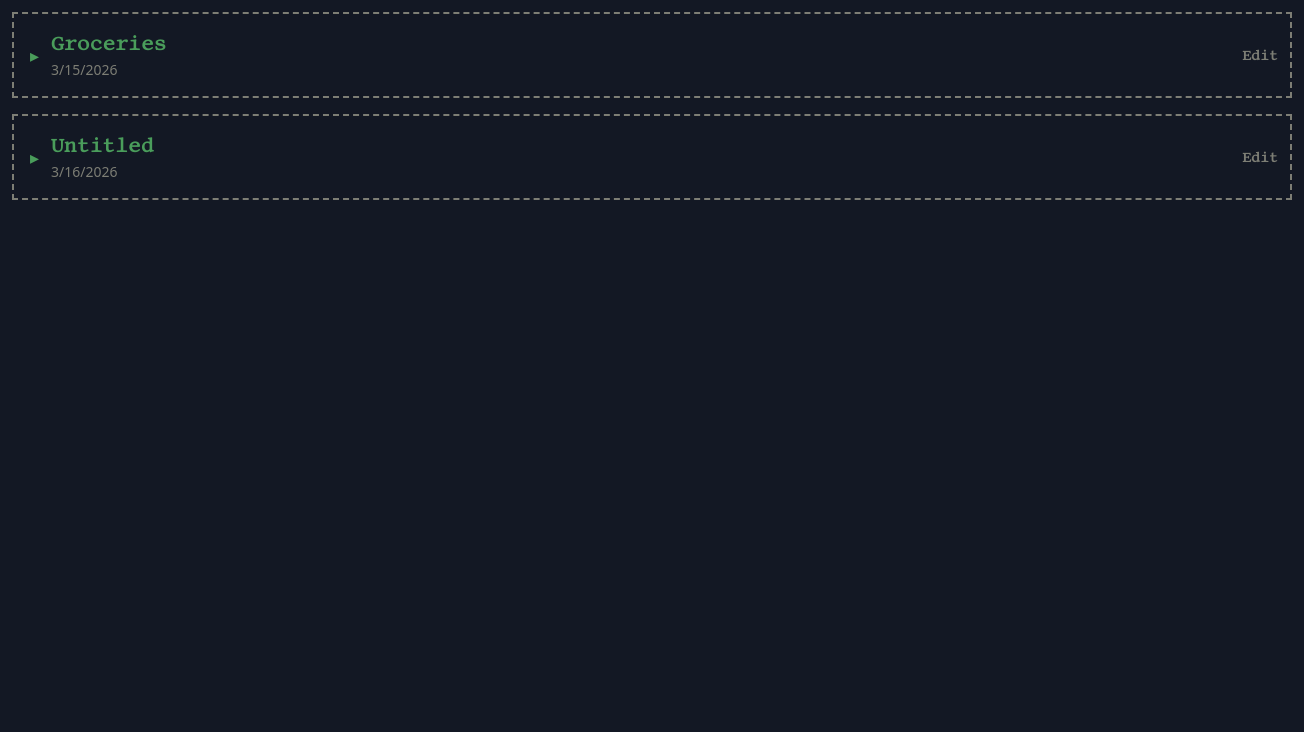
Test: NoteList › edit drafts › surfaces the kept draft after leaving an edit without cancelling
The width and height of the screenshot is (1304, 732).
Click the button with aria-label "Edit Groceries" at (1260, 55), box [1230,45,1290,65]
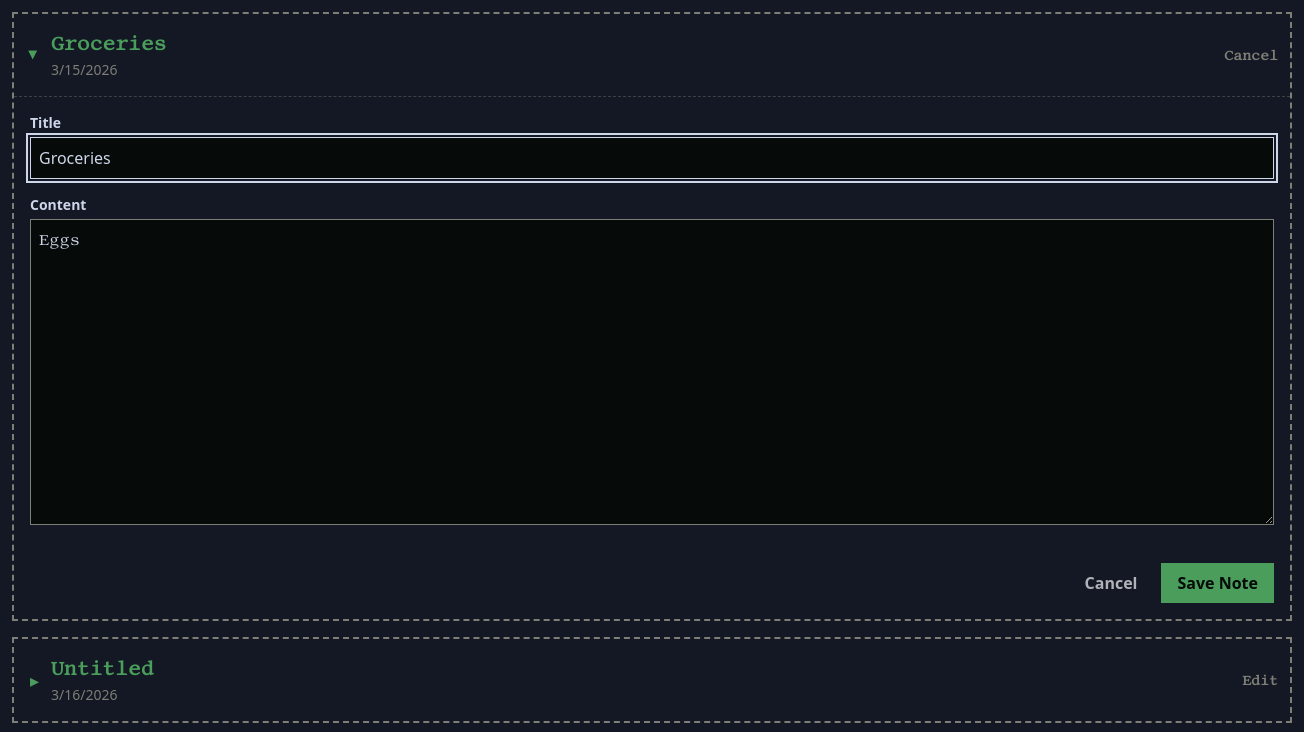
Replace the text in the field showing "Groceries" with "Groceries in progress" at (652, 158), box [30,137,1274,179]
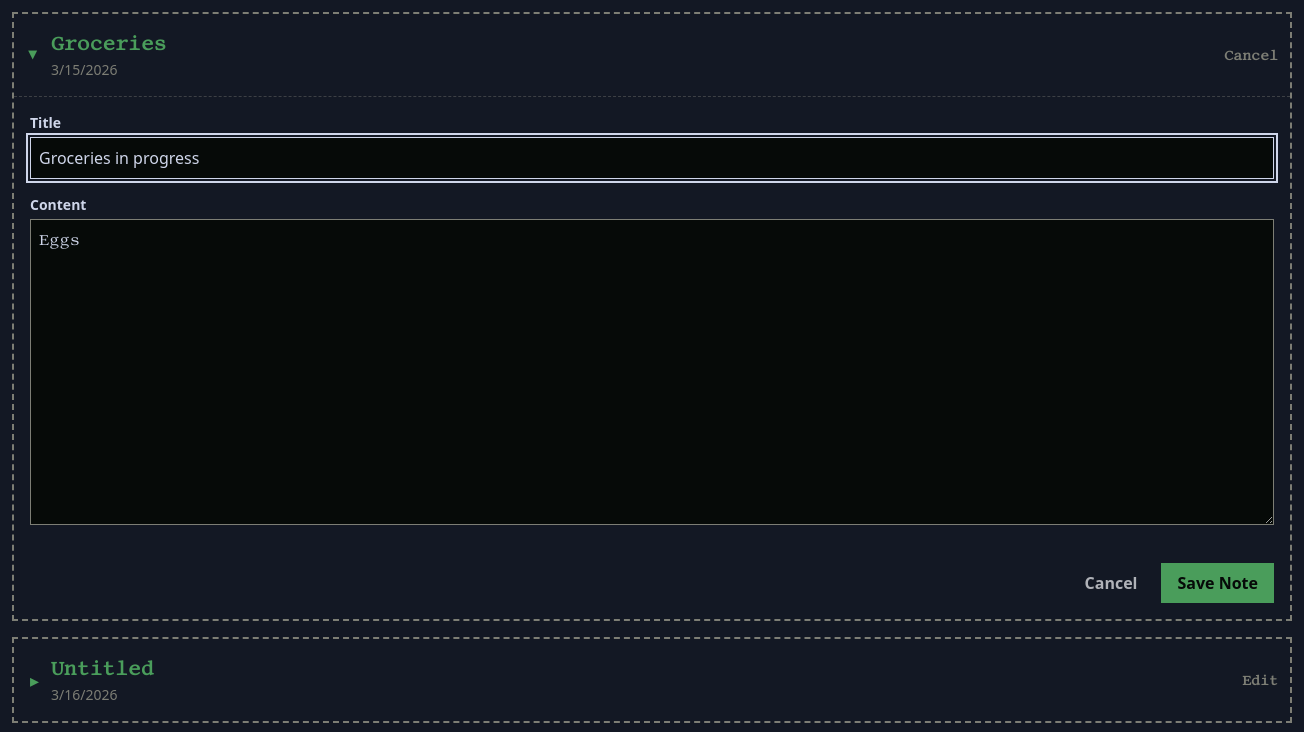
Collapse by clicking the title — the draft is kept, not cancelled.
Click the text "Groceries" at (109, 44), box [51,30,166,58]
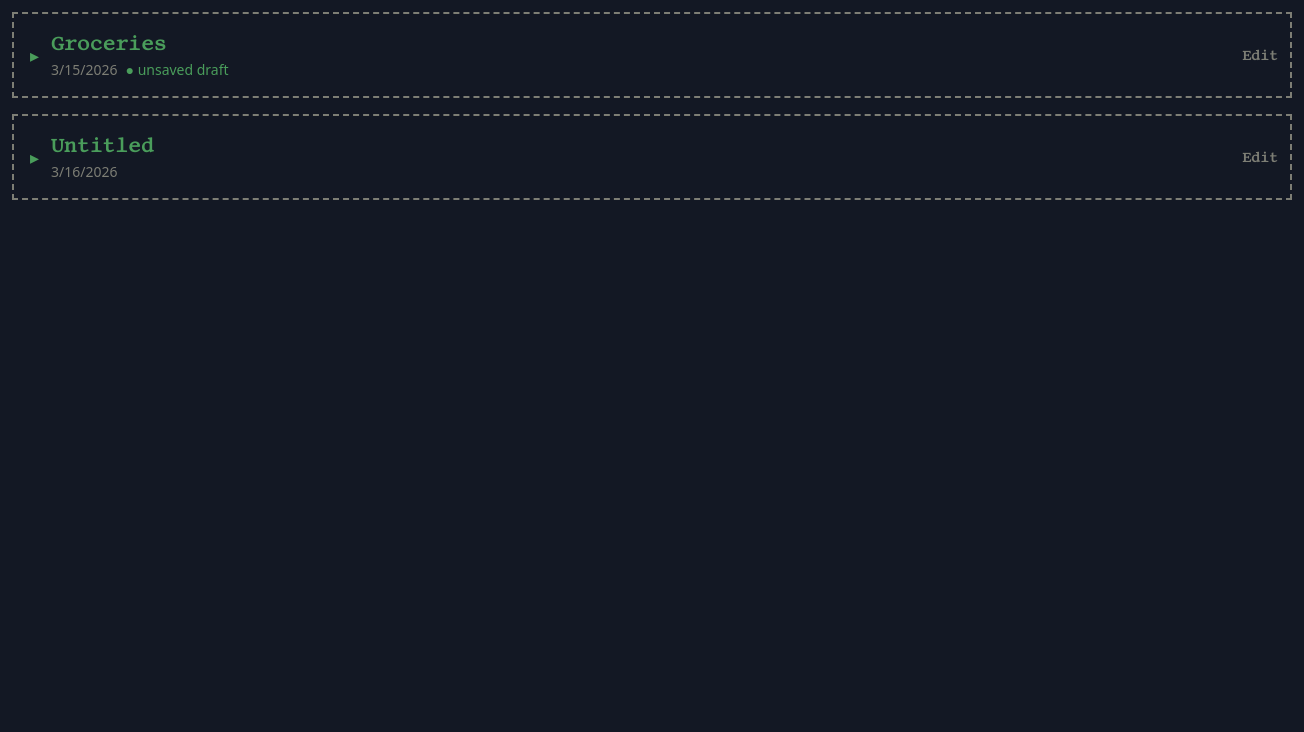
expect the text "● unsaved draft" is shown: met, box [126,60,229,79]
